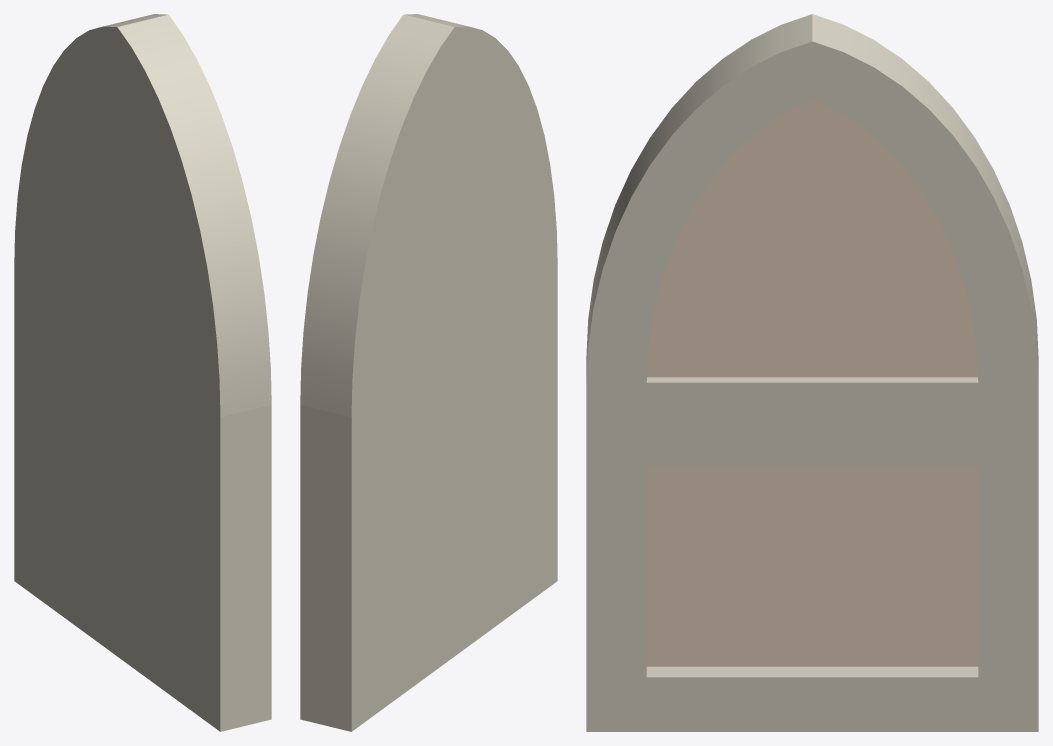
Rendered from door.glb.
3 renders of one model, left to right at view 1: azimuth 30°, elevation 25°; view 2: azimuth 150°, elevation 25°; view 3: azimuth 270°, elevation 25°, orthographic. The views are drawn at different scales.
Parts seen in each view (by area): view 1: door; view 2: door; view 3: door.
Part boxes in pixels (x1,y1,x2,y2): door: [14, 14, 271, 731]; door: [300, 14, 557, 731]; door: [586, 14, 1038, 731].
Bounding box in the file's own units: 0.516 × 6.05 × 3.59.
